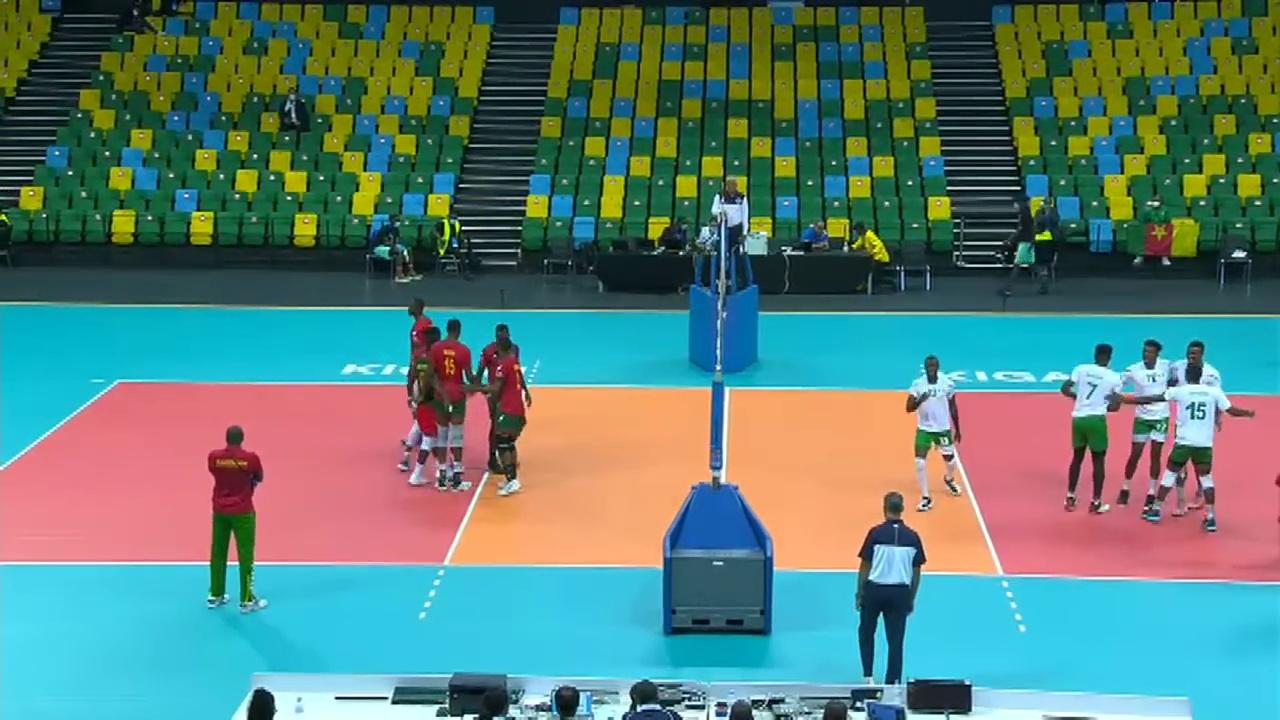player: (1156, 365, 1236, 531), (1062, 344, 1135, 510), (903, 357, 968, 507), (1172, 336, 1222, 516), (479, 319, 536, 470), (431, 320, 478, 499), (409, 327, 454, 486), (399, 292, 444, 449), (1132, 337, 1175, 501), (487, 337, 530, 500)
refree: (851, 490, 928, 685), (706, 171, 754, 289)
